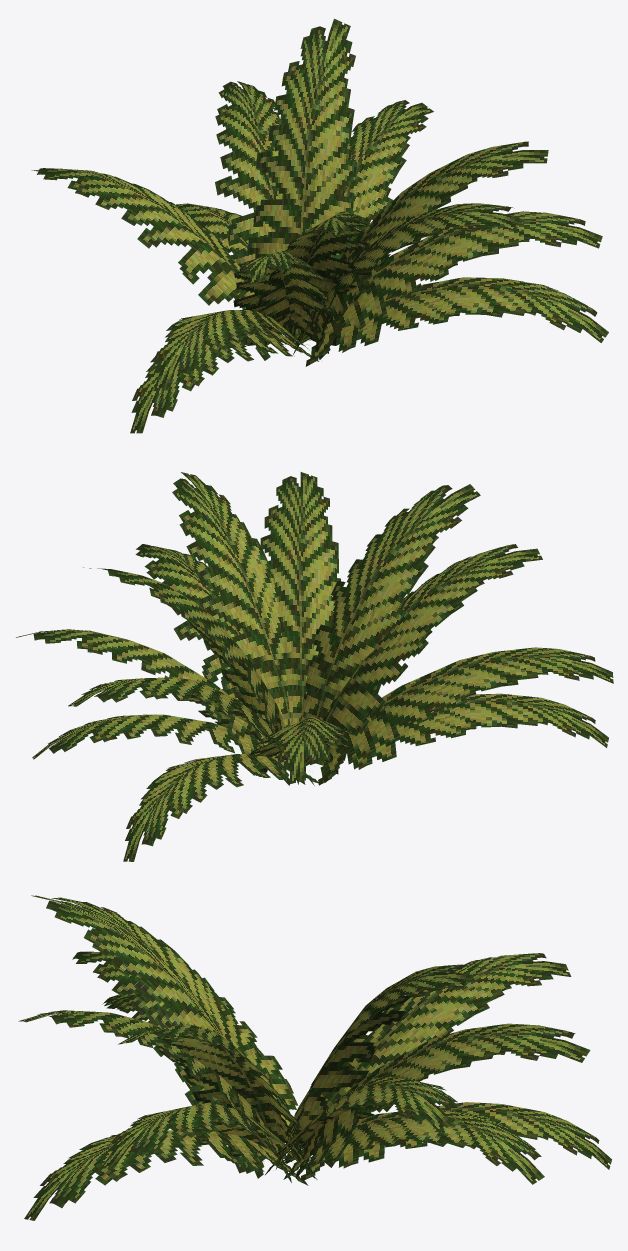
Rendered from SM_TI_Fern_1.fbx.
3 views of the same model, one above another, from view 1: azimuth 30°, elevation 25°; view 2: azimuth 150°, elevation 25°; view 3: azimuth 270°, elevation 25° (orthographic). The views are drawn at different scales.
Visible parts, largest first — view 1: SM_TI_Fern_1; view 2: SM_TI_Fern_1; view 3: SM_TI_Fern_1.
Boxes of the visible parts, <box> form: SM_TI_Fern_1: <box>31,18,608,433</box>; SM_TI_Fern_1: <box>16,472,613,861</box>; SM_TI_Fern_1: <box>18,895,611,1220</box>.
Bounding box in the file's own units: 1.65 × 1.6 × 0.8006.
